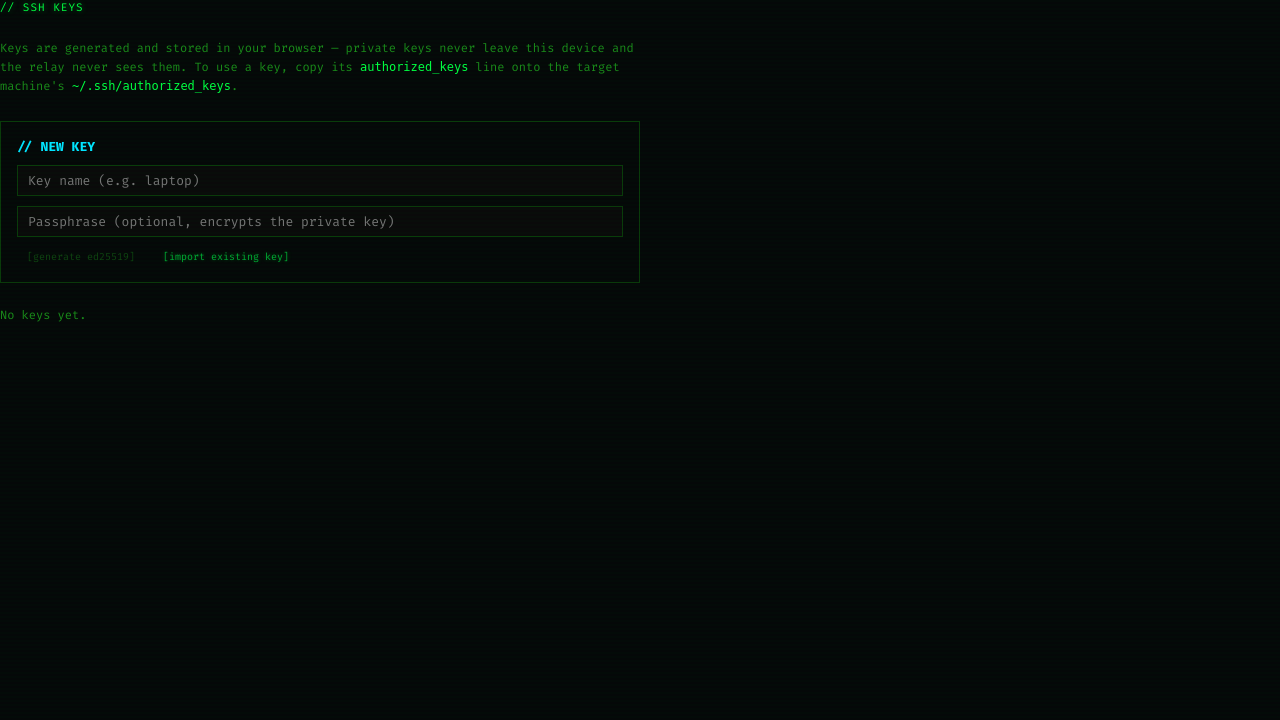
Scenario: KeysPage › opens the import modal, and a completed import closes it and refreshes
Click the button "[import existing key]" at (226, 256), box [153,247,299,266]
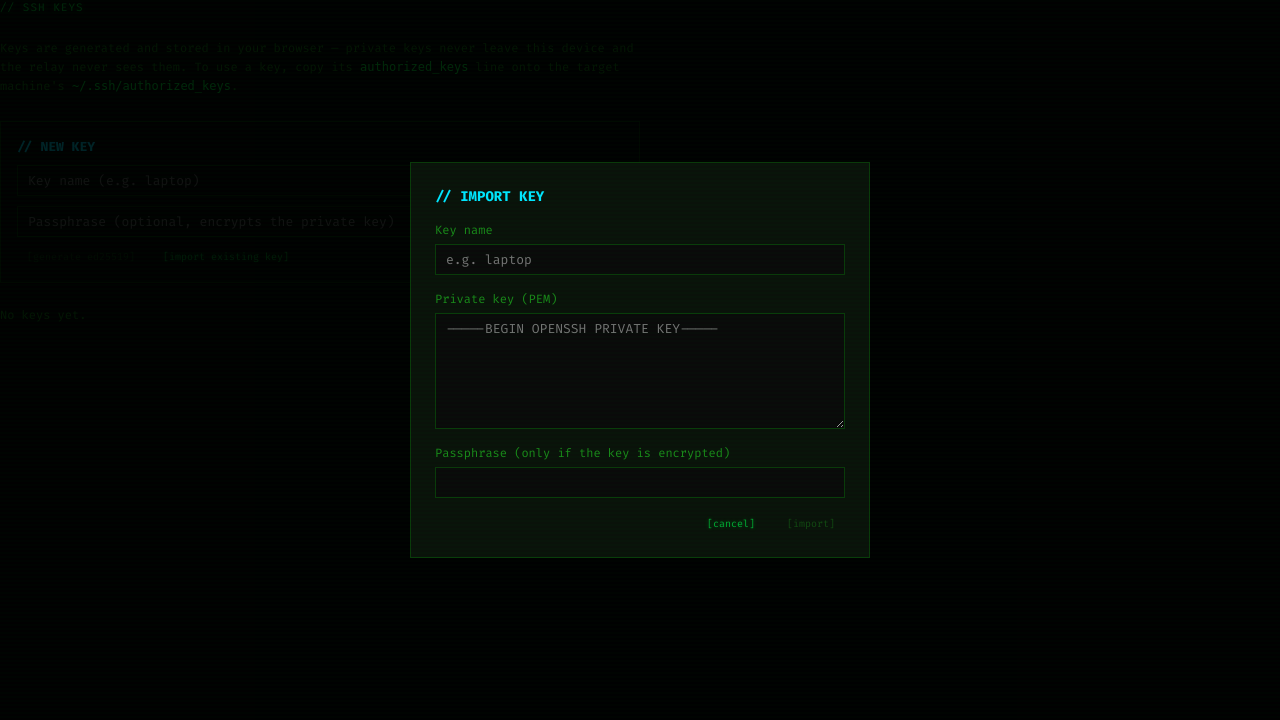
Check: the text "// IMPORT KEY" is shown, box [435,187,544,206]
Type "imported-key" into the field labelled "Key name" at (640, 260), box [435,244,845,275]
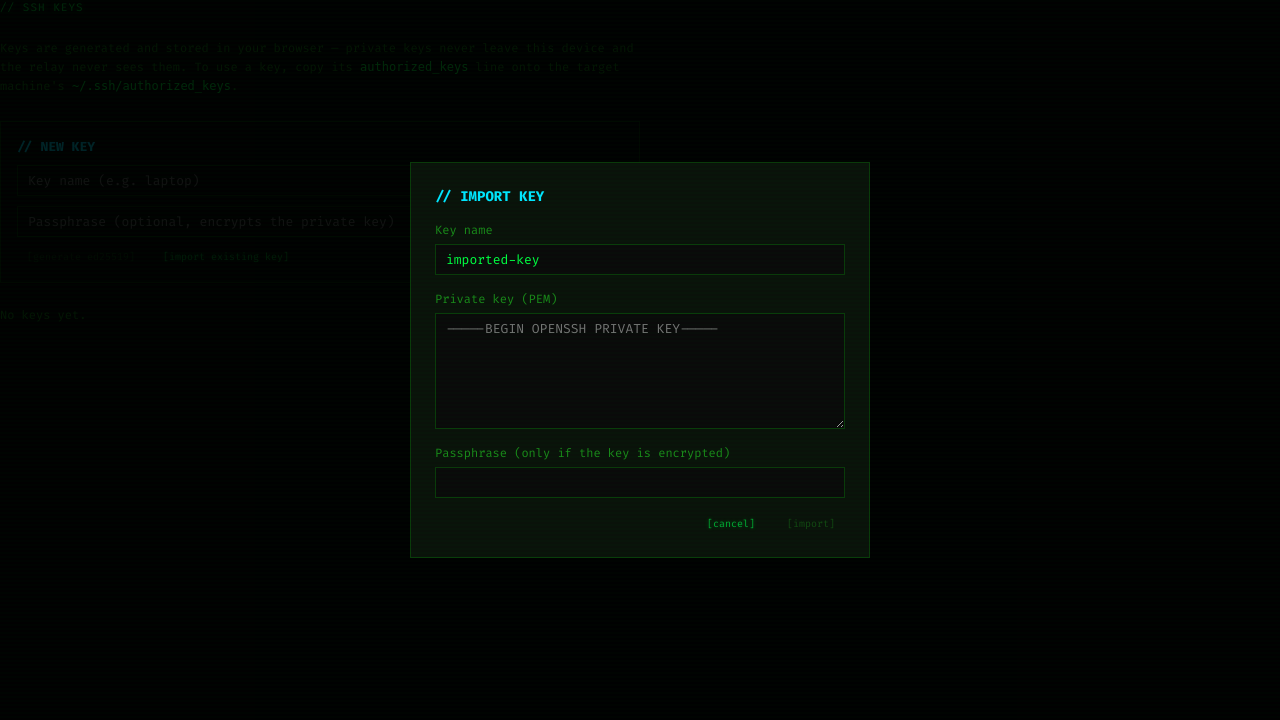
Type "pasted-pem" into the text box labelled "Private key (PEM)" at (640, 371), box [435,313,845,429]
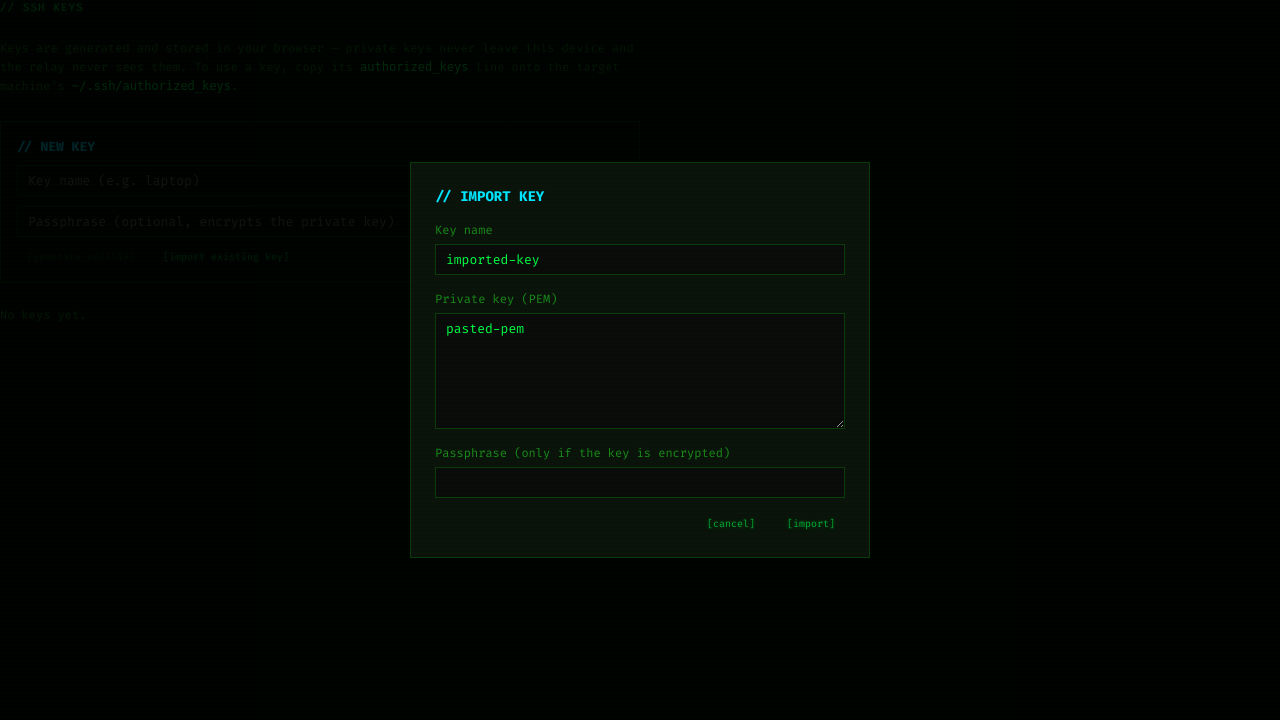
Click the button "[import]" at (811, 524), box [777,514,845,533]
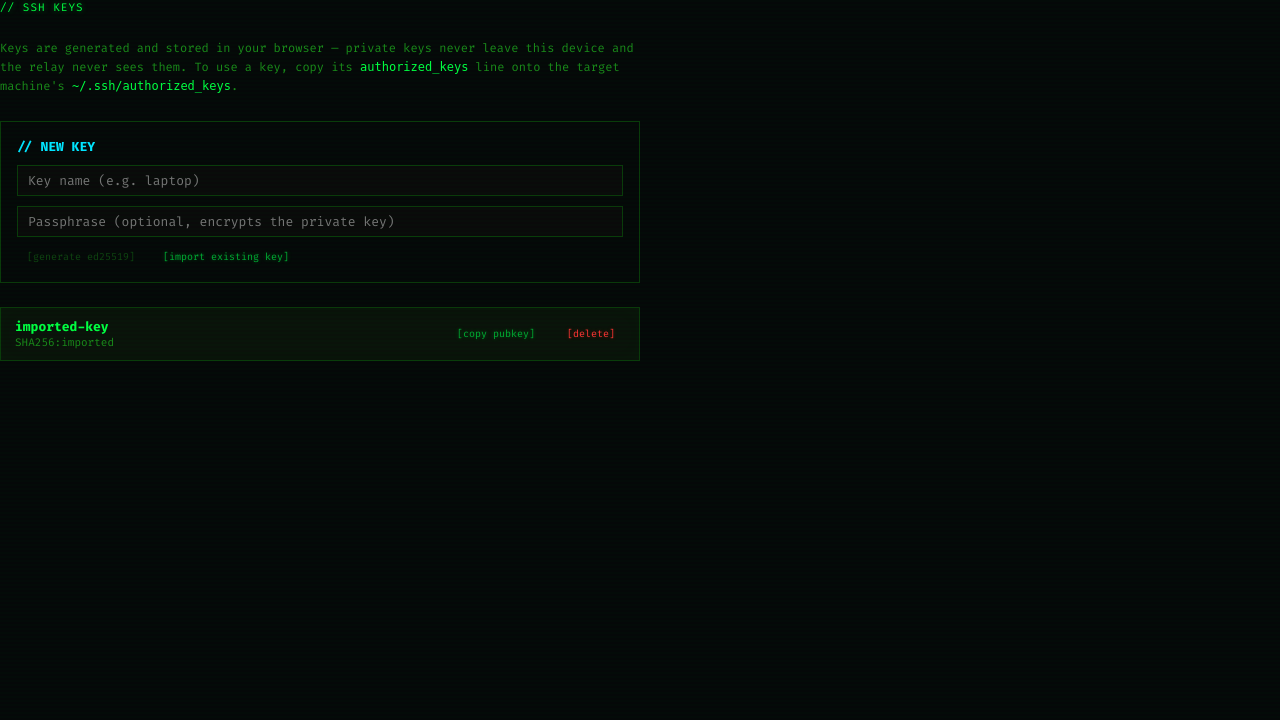
Check: the text "// IMPORT KEY" is gone
Check: the text "SHA256:imported" is shown, box [15,335,114,350]
